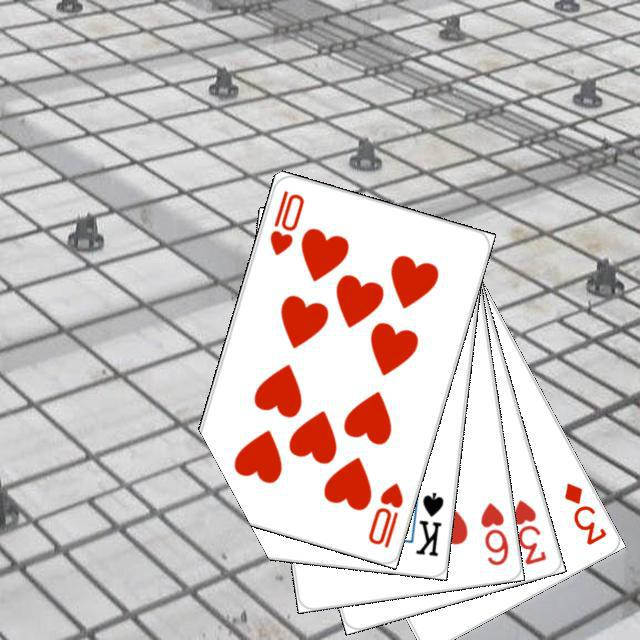10h: (363, 477, 405, 550), (264, 185, 306, 258)
3d: (559, 477, 608, 547)
3h: (508, 494, 548, 567)
6h: (475, 497, 511, 567)
Ks: (410, 487, 446, 558)
